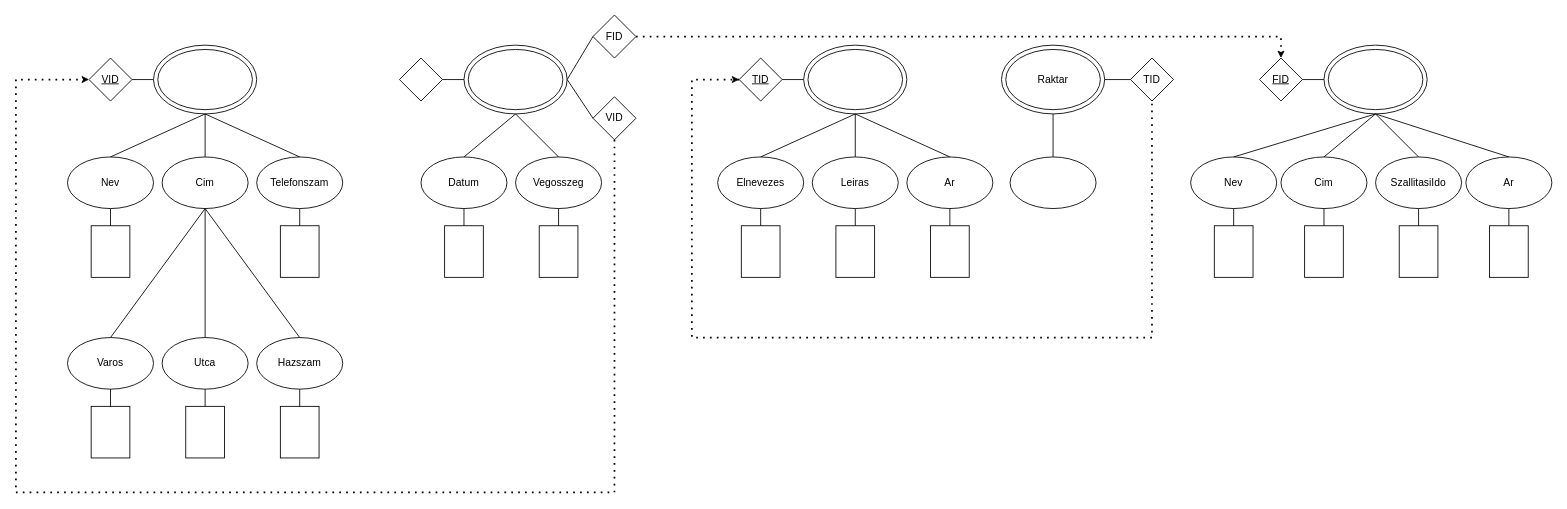
Image size: 1567x509. Some labels were removed from this diagram. The shapes that lost their labels are listed below. From the top down, each one's box as (x1, y1, x2, y2) in pixels, then its label:
(157, 49, 252, 110): Vasarlo
(399, 57, 442, 101): RID
(467, 49, 563, 110): Rendeles
(807, 49, 903, 110): Termek
(1327, 49, 1423, 110): FutarCeg
(1009, 156, 1096, 209): Mennyiseg
